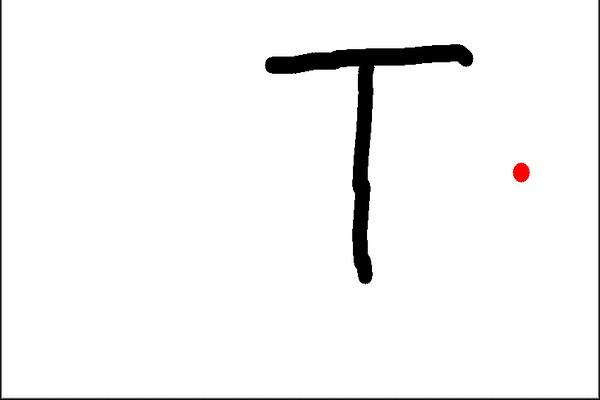T: (261, 41, 478, 285)
